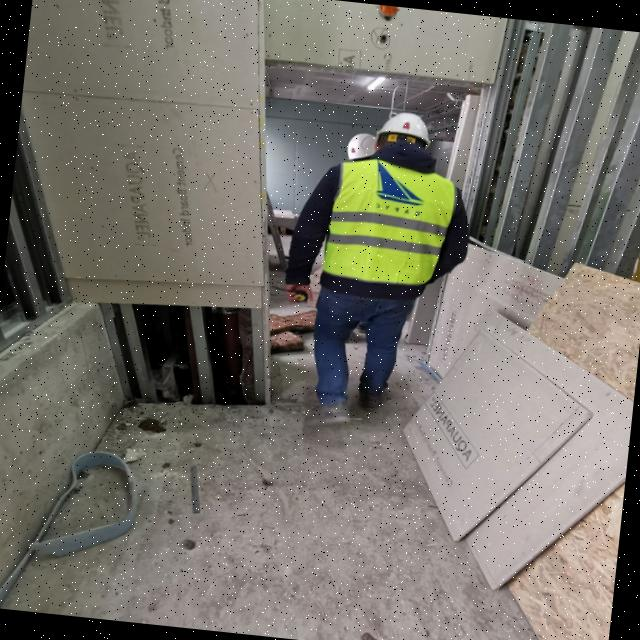Helmet: (377, 110, 433, 148), (346, 132, 378, 162)
Jacket: (331, 142, 446, 288)
